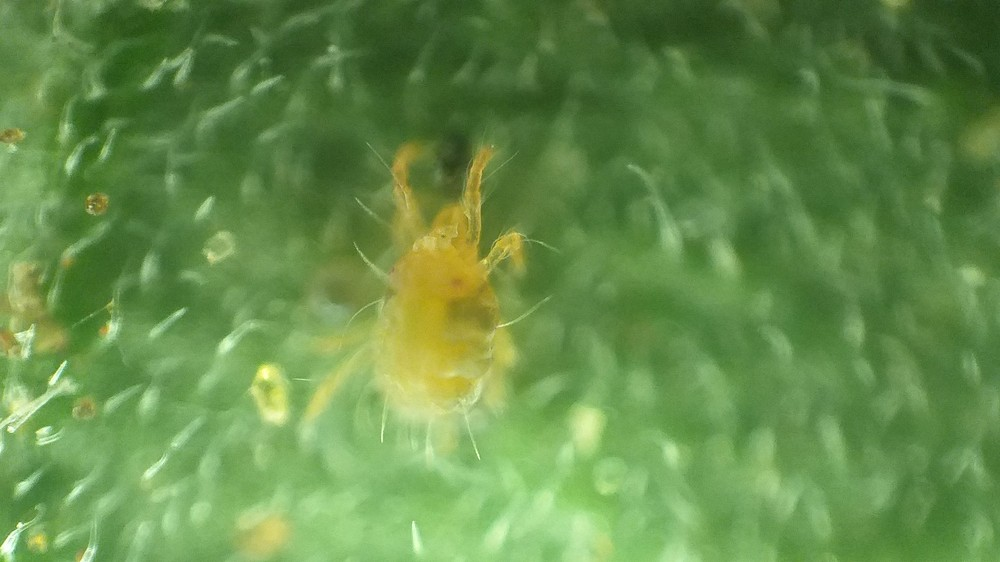Aracnido Rojo: (304, 124, 577, 475)
